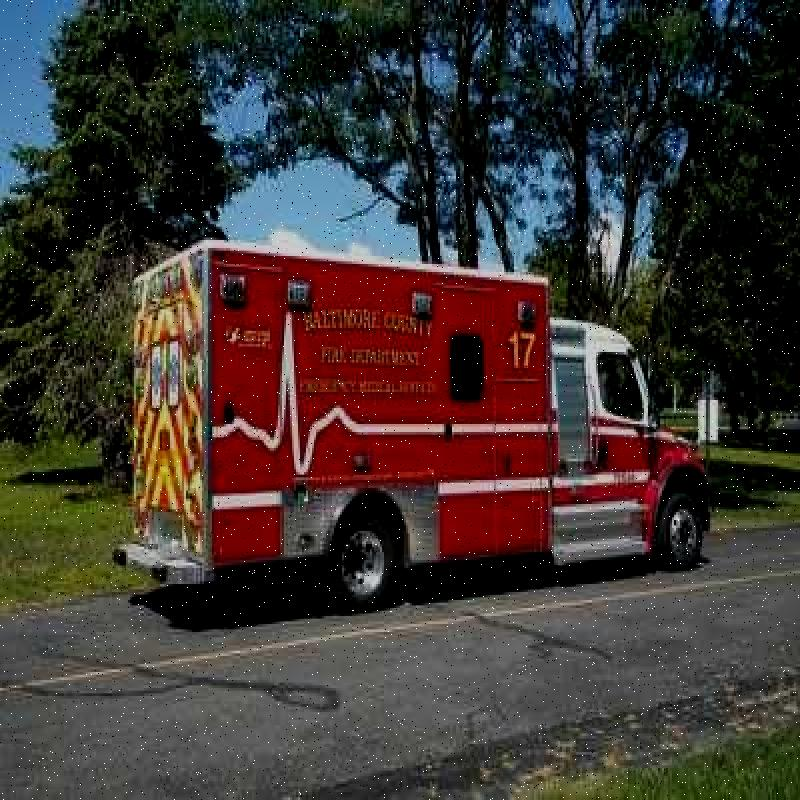AmbulanceSiren: (210, 264, 312, 316)
